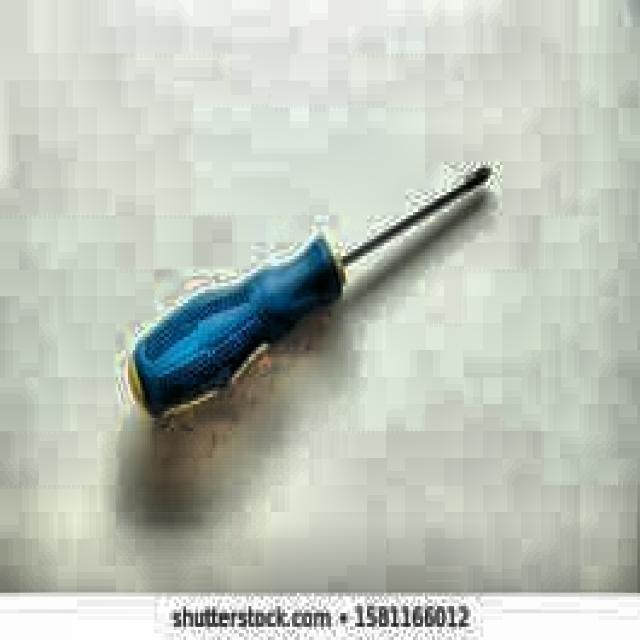screwdriver: (130, 164, 492, 416)
